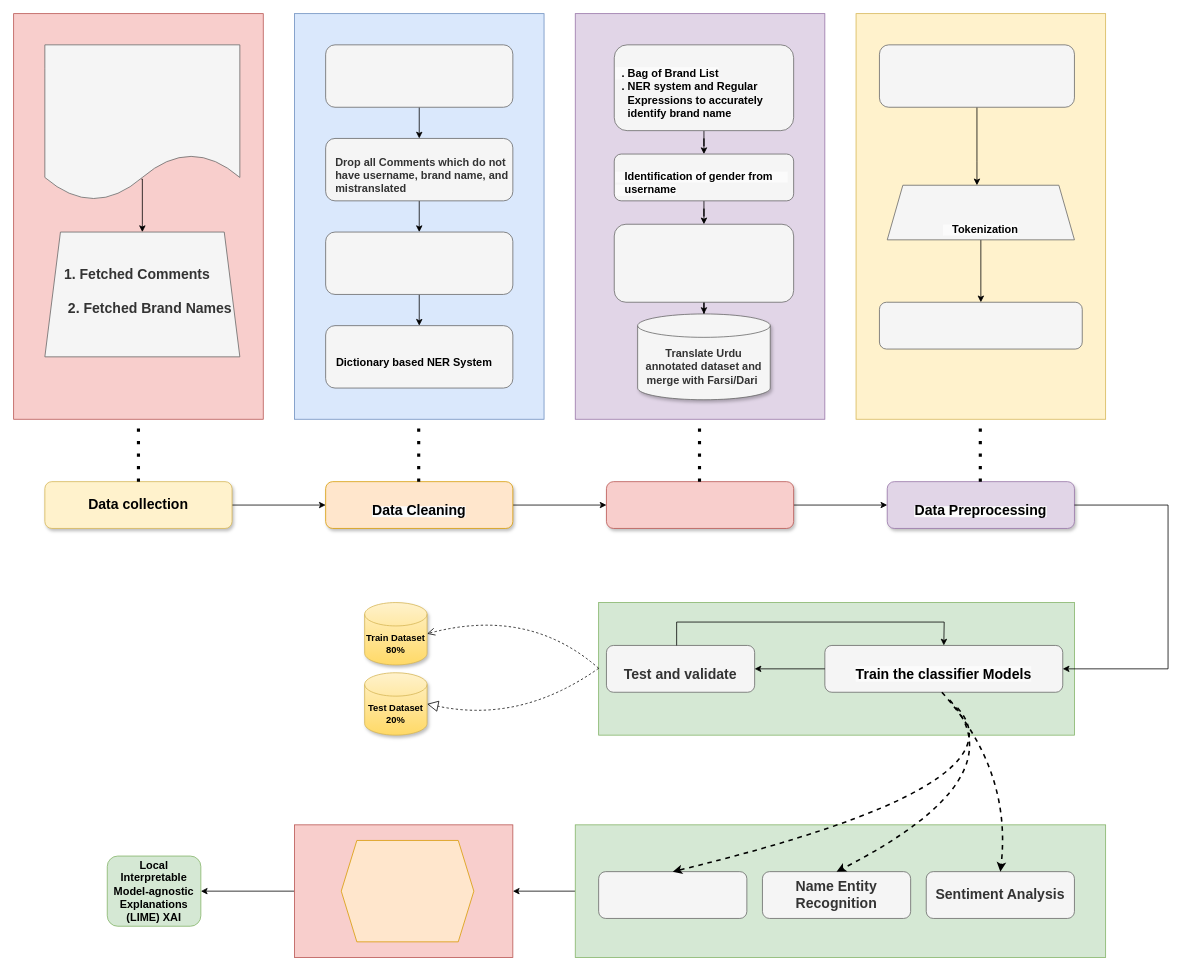
The diagram is 1188 pixels wide and 971 high, and some of its shapes have lost their labels. Each missing label, with the centre of its shape:
"1. Social Media platform comments Scraping 2. Brand Model Name Scraping" belongs at [142,122].
"Data Labelling" belongs at [700,506].
"Gender Prediction" belongs at [672,894].
"Implementation of Explainable AI" belongs at [407,891].
"Manually Annotation of Sentiment" belongs at [703,262].
"Removal of Emojis, URLs, Special Characters, and punctuations" belongs at [419,262].
"Stemming" belongs at [980,325].
"Stop Words Removal" belongs at [976,75].
"Translate English Comment into Urdu and merge with Farsi/Dari dataset" belongs at [419,75].
